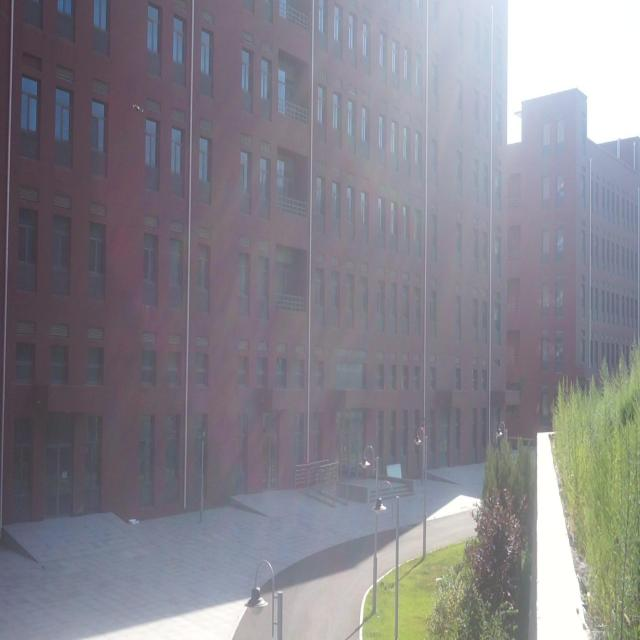drone: (131, 100, 143, 118)
